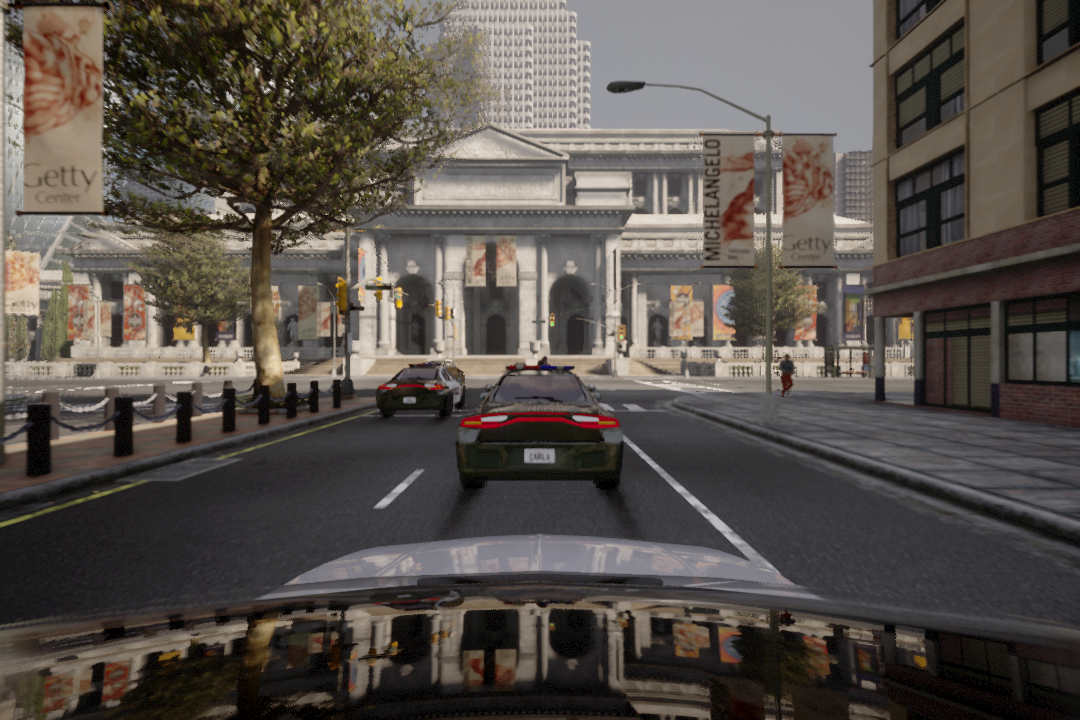TrafficLight: (616, 324, 630, 344), (546, 313, 557, 329)
